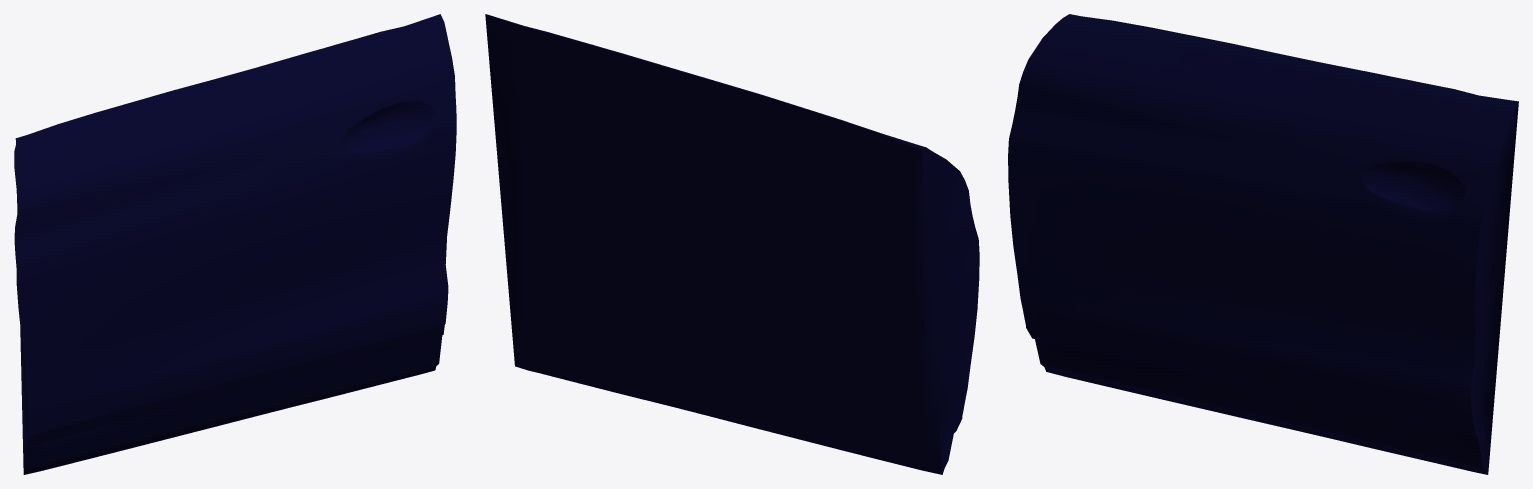
The model's file is SM_Car_MenL1.FBX.
3 views of the same model, side by side, from view 1: azimuth 30°, elevation 25°; view 2: azimuth 150°, elevation 25°; view 3: azimuth 330°, elevation 25° (orthographic). The views are drawn at different scales.
Visible parts, largest first — view 1: polySurface3523; view 2: polySurface3523; view 3: polySurface3523.
Part boxes in pixels (x1=…): polySurface3523: x1=14, y1=14, x2=456, y2=474; polySurface3523: x1=485, y1=14, x2=979, y2=474; polySurface3523: x1=1008, y1=14, x2=1518, y2=474.
Bounding box in the file's own units: 123 × 91.09 × 14.76.
